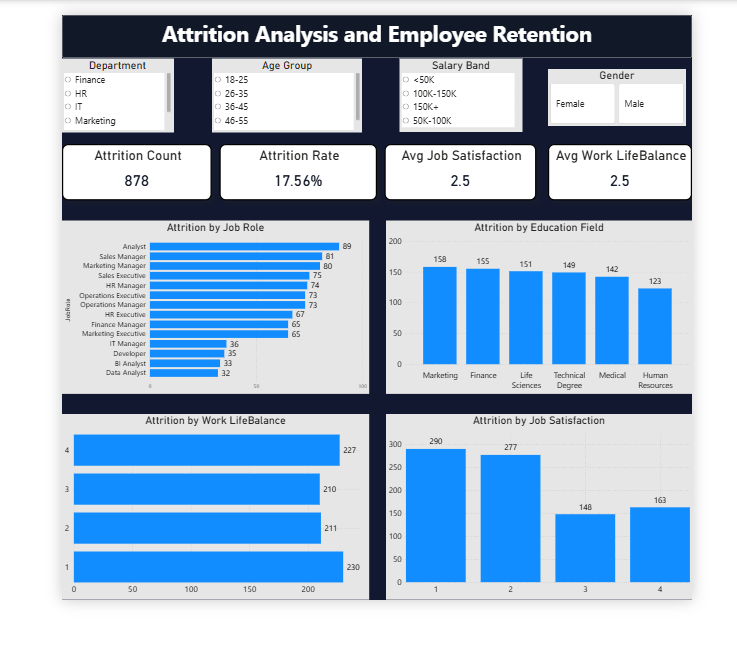

What the dashboard file says about the page in this screenshot:
{"tool":"powerbi","page":{"name":"Page 2","canvas":[1400,1300],"ordinal":1},"visuals":[{"type":"textbox","box":[0,0,1400,95],"z":0},{"type":"card","title":"Attrition Count","fields":{"Values":["HR_Data.Attrition Count"]},"box":[0,285,332.5,125],"z":1000},{"type":"card","title":"Attrition Rate","fields":{"Values":["HR_Data.Attrition Rate %"]},"box":[350,285,350,125],"z":2000},{"type":"card","title":"Avg Job Satisfaction","fields":{"Values":["HR_Data.Avg Job Satisfaction"]},"box":[717.5,285,337.5,125],"z":3000},{"type":"card","title":"Avg Work LifeBalance","fields":{"Values":["HR_Data.Avg work lifebalance"]},"box":[1080,285,320,125],"z":4000},{"type":"barChart","title":"Attrition by Job Role","fields":{"Category":["HR_Data.JobRole"],"Y":["HR_Data.Attrition Count"]},"box":[0,457.5,682.5,385],"z":5000},{"type":"columnChart","title":"Attrition by Education Field","fields":{"Y":["HR_Data.Attrition Count"],"Category":["HR_Data.EducationField"]},"box":[720,457.5,680,385],"z":6000},{"type":"clusteredBarChart","title":"Attrition  by Work LifeBalance","fields":{"Y":["HR_Data.Attrition Count"],"Category":["HR_Data.WorkLifeBalance"]},"box":[0,887.5,682.5,412.5],"z":7000},{"type":"clusteredColumnChart","title":"Attrition by Job Satisfaction","fields":{"Category":["HR_Data.JobSatisfaction"],"Y":["HR_Data.Attrition Count"]},"box":[720,887.5,680,412.5],"z":8000},{"type":"listSlicer","fields":{"Values":["HR_Data.Department"]},"box":[0,96.7,246.7,163.3],"z":9000},{"type":"listSlicer","fields":{"Values":["HR_Data.Age Group"]},"box":[333.3,96.7,333.3,163.3],"z":10000},{"type":"advancedSlicerVisual","fields":{"Values":["HR_Data.Gender"]},"box":[1080,120,306.7,126.7],"z":11000},{"type":"listSlicer","fields":{"Values":["HR_Data.Salary Band"]},"box":[750,96.7,273.3,163.3],"z":12000}]}

Visuals, with their boxes on the page's 1400x1300 design canvas (x1, y1, x2, y2). These are canvas units, not pixel positions in the 737x662 screenshot, which may show the page scaled, cropped or inside an application window:
textbox: bbox(0, 0, 1400, 95)
"Attrition Count" card: bbox(0, 285, 332, 410)
"Attrition Rate" card: bbox(350, 285, 700, 410)
"Avg Job Satisfaction" card: bbox(718, 285, 1055, 410)
"Avg Work LifeBalance" card: bbox(1080, 285, 1400, 410)
"Attrition by Job Role" barChart: bbox(0, 458, 682, 842)
"Attrition by Education Field" columnChart: bbox(720, 458, 1400, 842)
"Attrition  by Work LifeBalance" clusteredBarChart: bbox(0, 888, 682, 1300)
"Attrition by Job Satisfaction" clusteredColumnChart: bbox(720, 888, 1400, 1300)
listSlicer - HR_Data.Department: bbox(0, 97, 247, 260)
listSlicer - HR_Data.Age Group: bbox(333, 97, 667, 260)
advancedSlicerVisual - HR_Data.Gender: bbox(1080, 120, 1387, 247)
listSlicer - HR_Data.Salary Band: bbox(750, 97, 1023, 260)
